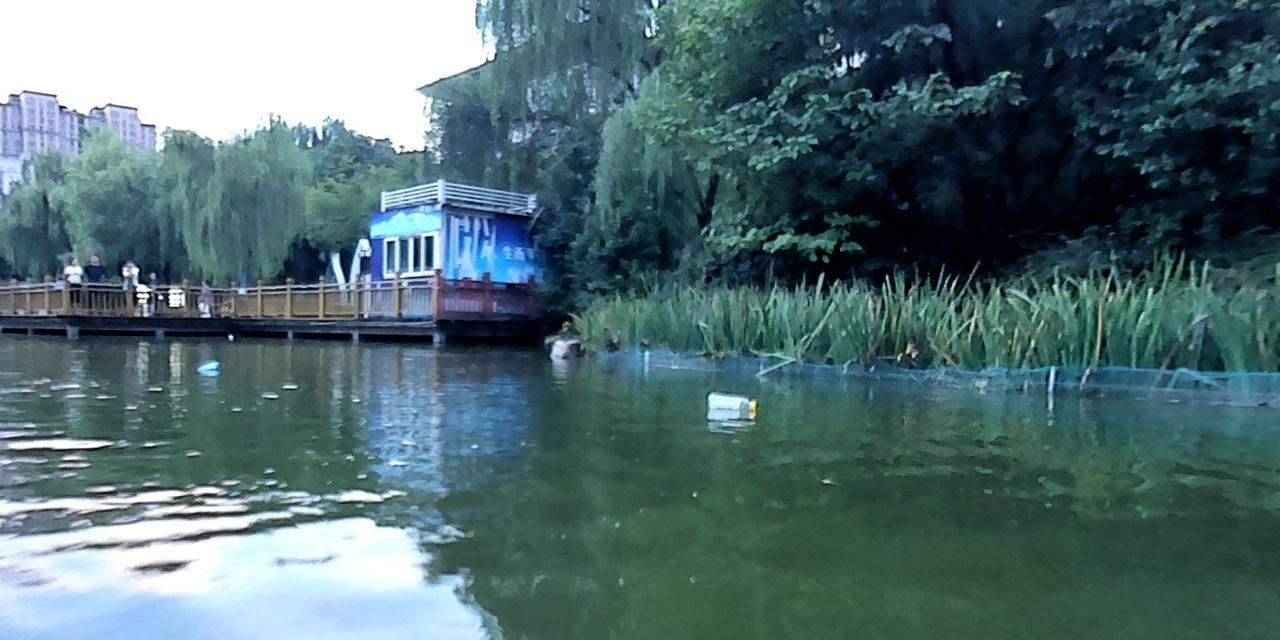bottle: (706, 392, 755, 415), (194, 360, 218, 376)
